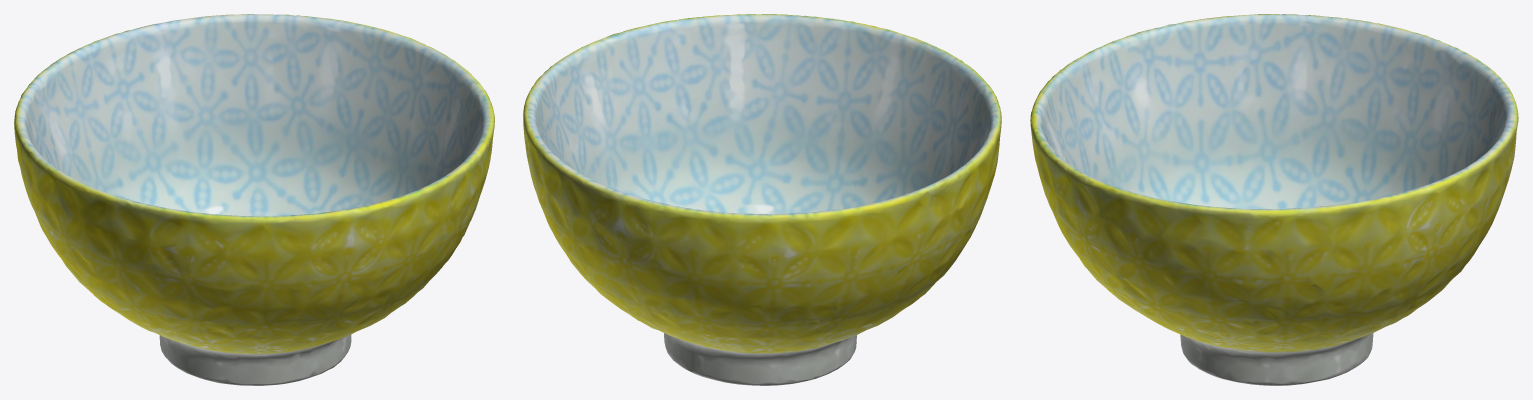
The model's file is Cole_Hardware_Bowl_Scirocco_YellowBlue.glb.
The picture shows the model from 3 angles, left to right: view 1: azimuth 30°, elevation 25°; view 2: azimuth 150°, elevation 25°; view 3: azimuth 270°, elevation 25°; orthographic projection.
Parts seen in each view (by area): view 1: Cole_Hardware_Bowl_Scirocco_YellowBlue; view 2: Cole_Hardware_Bowl_Scirocco_YellowBlue; view 3: Cole_Hardware_Bowl_Scirocco_YellowBlue.
Part boxes in pixels (x1,y1,x2,y2): Cole_Hardware_Bowl_Scirocco_YellowBlue: [14, 14, 494, 385]; Cole_Hardware_Bowl_Scirocco_YellowBlue: [523, 14, 1001, 385]; Cole_Hardware_Bowl_Scirocco_YellowBlue: [1030, 14, 1518, 385].
Bounding box in the file's own units: 0.1135 × 0.0619 × 0.1149.
Materials: 1 (1 with a texture image).
